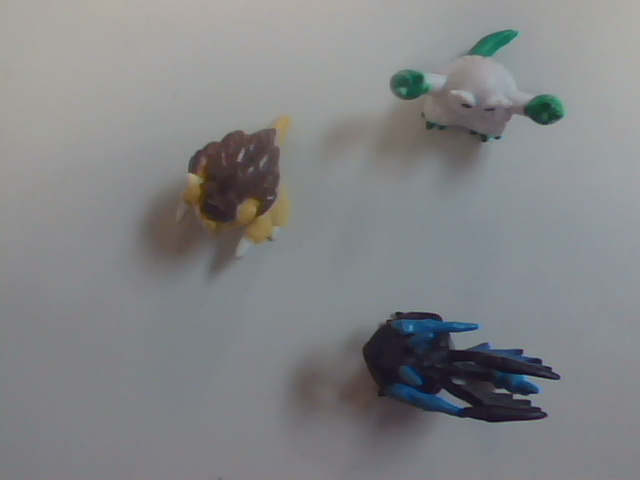abomasnow: (372, 10, 584, 209)
charizard: (354, 258, 574, 467)
sandslash: (139, 92, 321, 287)
